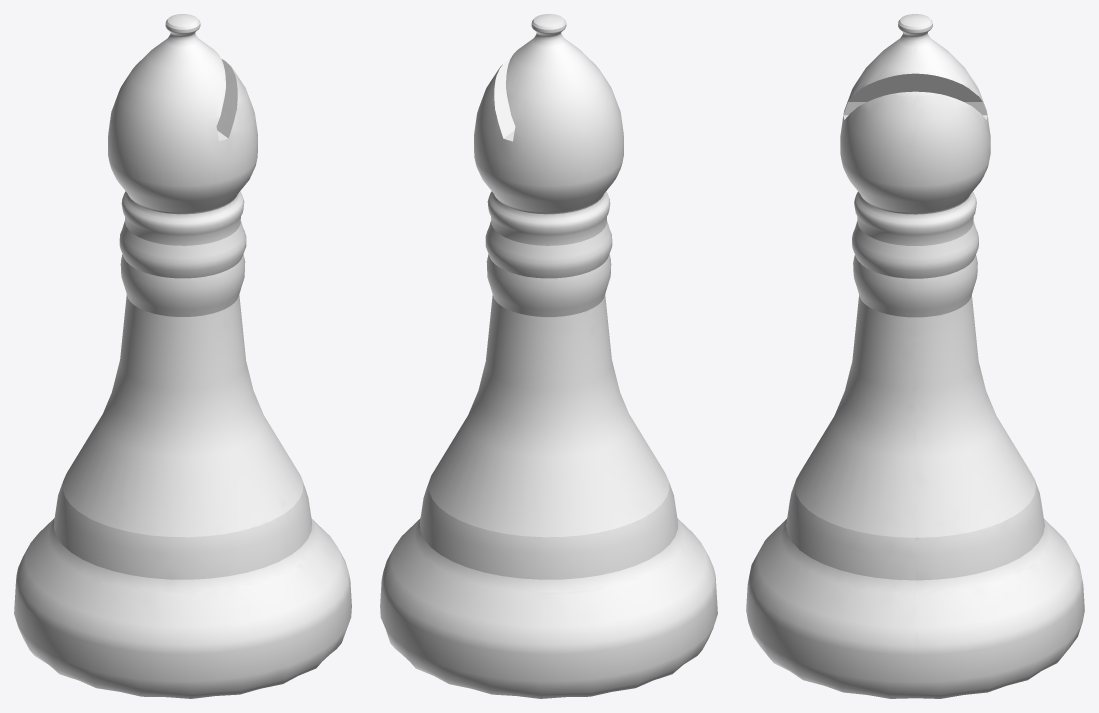
Rendered from Alfil_Blanco.glb.
The picture shows the model from 3 angles, left to right: view 1: azimuth 30°, elevation 25°; view 2: azimuth 150°, elevation 25°; view 3: azimuth 270°, elevation 25°; orthographic projection.
Parts seen in each view (by area): view 1: alfil_b_1; view 2: alfil_b_1; view 3: alfil_b_1.
Part boxes in pixels (x1,y1,x2,y2): alfil_b_1: (14, 14, 351, 698); alfil_b_1: (380, 14, 717, 698); alfil_b_1: (746, 14, 1084, 698).
Size of the model in its own units: 0.8321 by 1.67 by 0.8321.
Materials: 1 (1 with a texture image).
